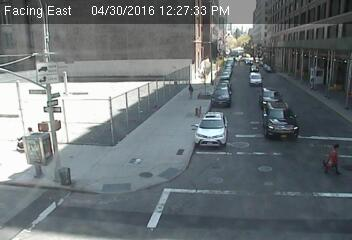neg: (189, 117, 233, 175), (26, 69, 56, 109), (136, 139, 164, 176), (222, 76, 250, 112), (25, 123, 51, 159), (106, 78, 128, 107), (247, 155, 266, 181), (49, 161, 64, 181), (129, 32, 141, 49), (317, 68, 328, 84), (238, 34, 249, 49)
pos: (318, 139, 348, 178), (186, 80, 199, 98)
